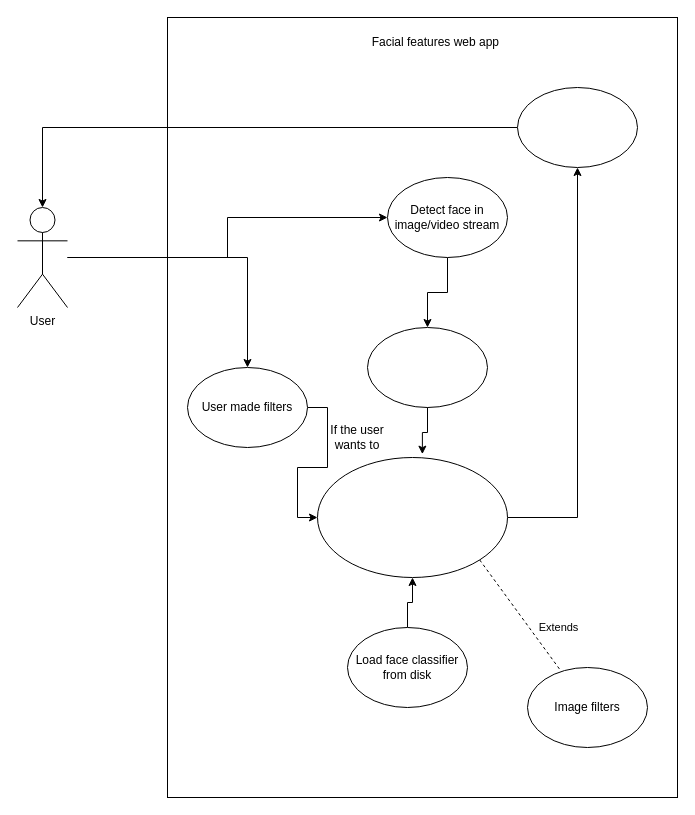
Image size: 695x815. Some labels were removed from this diagram. Each missing label, with the centre of its shape:
"Apply face classifier on the region of interest to determine the facial features" goes at [412,517].
"Display results" goes at [577,127].
"Extract from face the region of interest" goes at [427,367].
